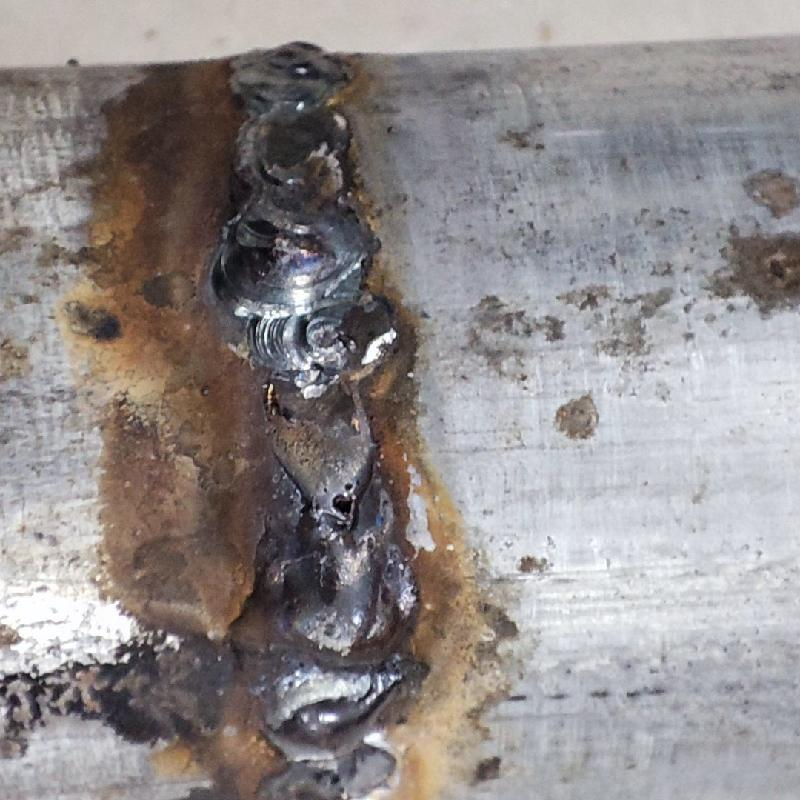Not_fully_soldered: (237, 310, 403, 505)
Surface_pores: (313, 474, 368, 522)
wrong_size: (222, 507, 427, 762), (209, 35, 374, 305)
